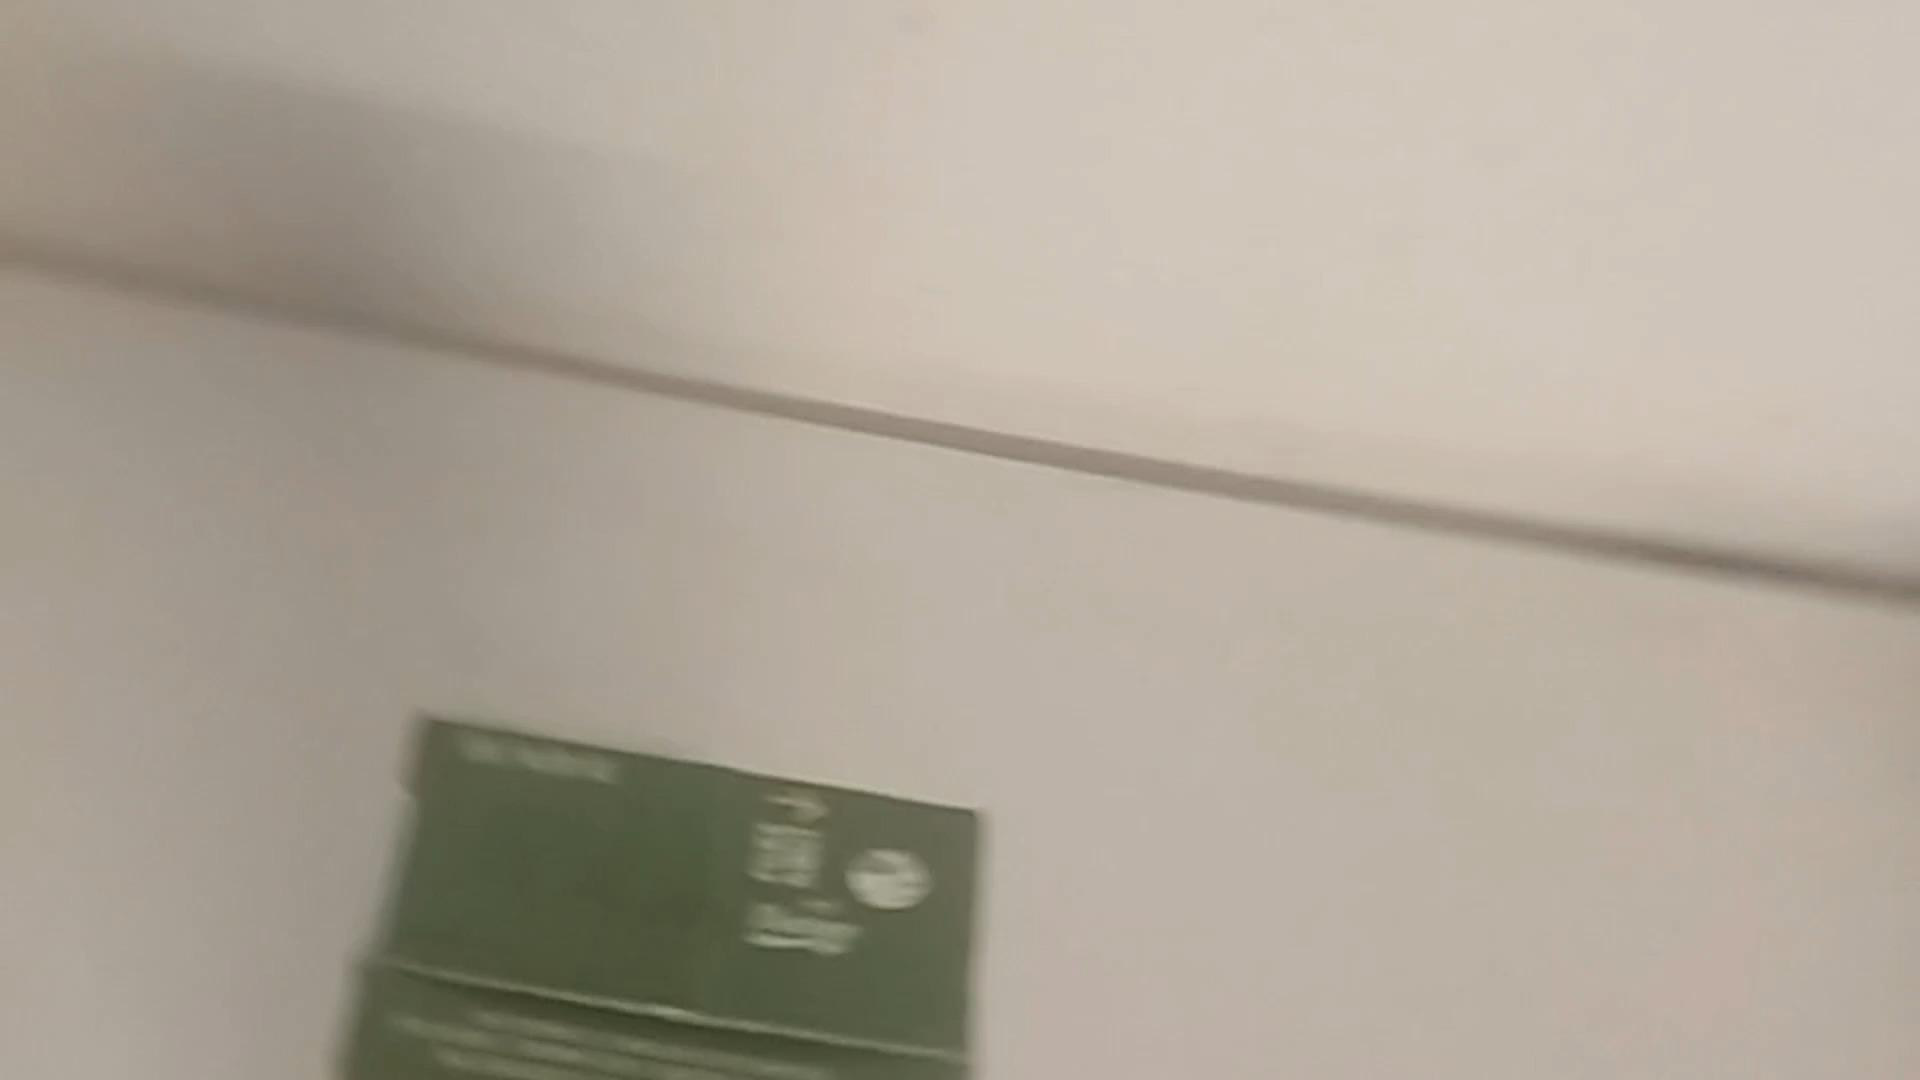coco: (324, 712, 996, 1077)
